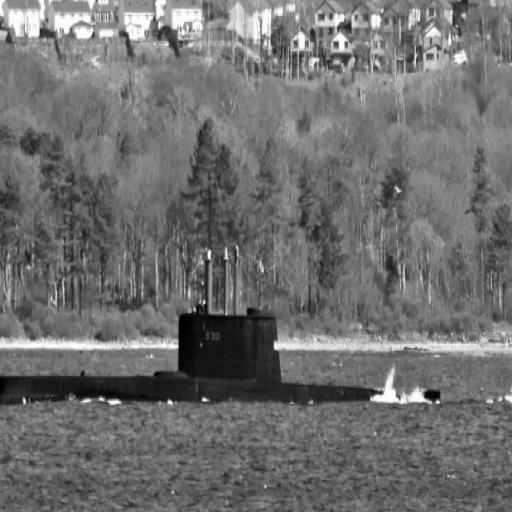submarine: (1, 242, 447, 405)
